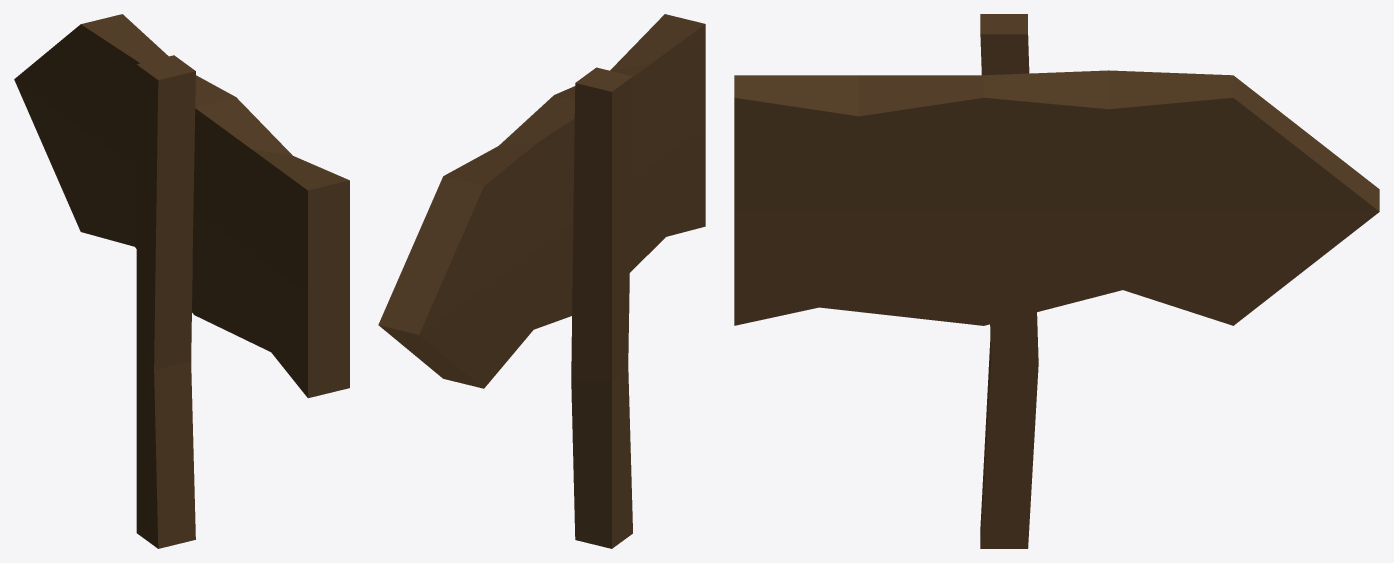
File: Signpost.glb
3 renders of one model, left to right at view 1: azimuth 30°, elevation 25°; view 2: azimuth 150°, elevation 25°; view 3: azimuth 270°, elevation 25°, orthographic. The views are drawn at different scales.
Visible parts, largest first — view 1: Signpost; view 2: Signpost; view 3: Signpost.
Part boxes in pixels (box(x1,y1,x2,y2)): Signpost: box(14, 14, 349, 548); Signpost: box(378, 14, 705, 548); Signpost: box(734, 14, 1379, 548).
Size of the model in its own units: 0.4473 by 2.41 by 2.74.
